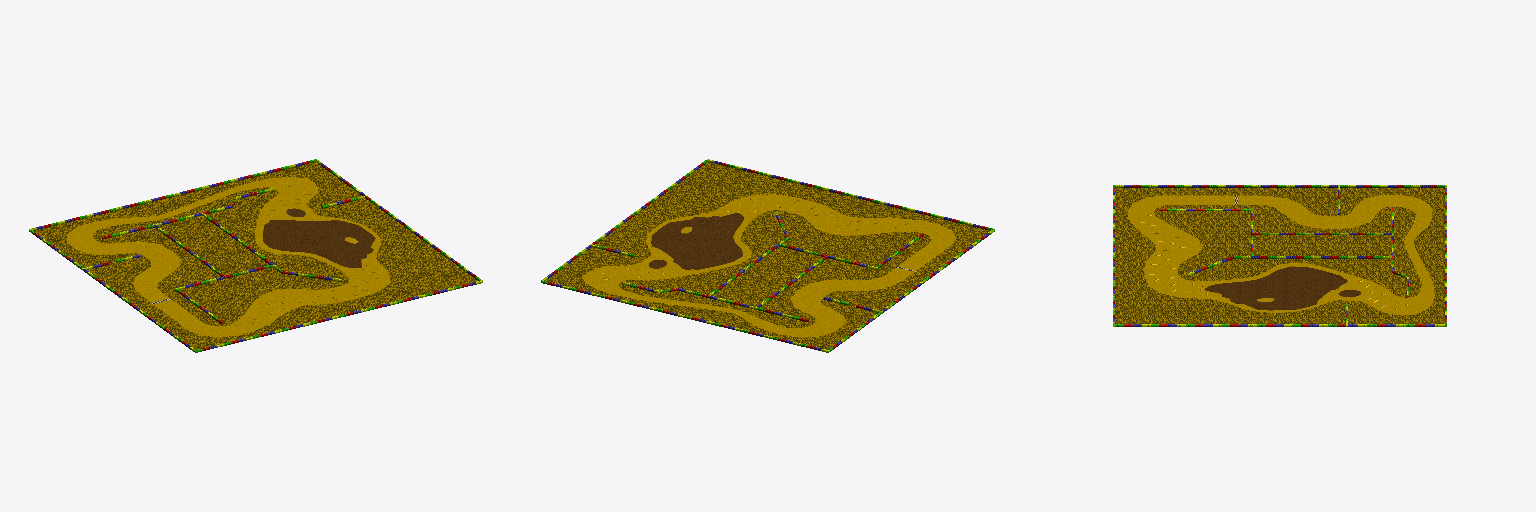
The picture shows the model from 3 angles: view 1: azimuth 30°, elevation 25°; view 2: azimuth 150°, elevation 25°; view 3: azimuth 270°, elevation 25°; orthographic projection.
Parts seen in each view (by area): view 1: course_model; view 2: course_model; view 3: course_model.
Part boxes in pixels (bbox=[...]): course_model: bbox=[29, 159, 482, 352]; course_model: bbox=[541, 159, 994, 352]; course_model: bbox=[1113, 185, 1446, 326].
Size of the model in its own units: 206 by 1.3 by 206.
11 materials, 11 textured.